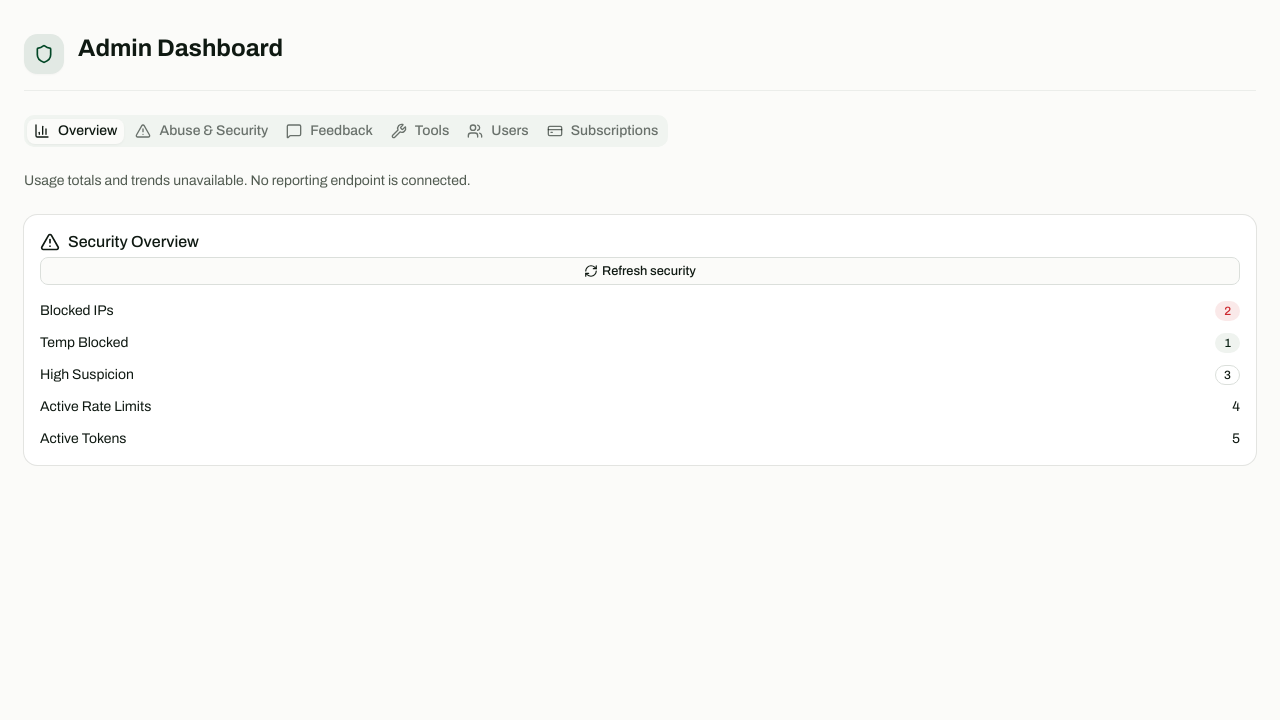
truthful admin dashboard › shows unavailable metric sections without fabricated numbers
Expected: the text "Active Tokens" is shown, [40, 429, 126, 449]
Expected: the text "Usage totals and trends unavailable" is shown, [24, 173, 471, 188]
Click the tab "Tools".
click(420, 131)  # box [384, 118, 456, 144]
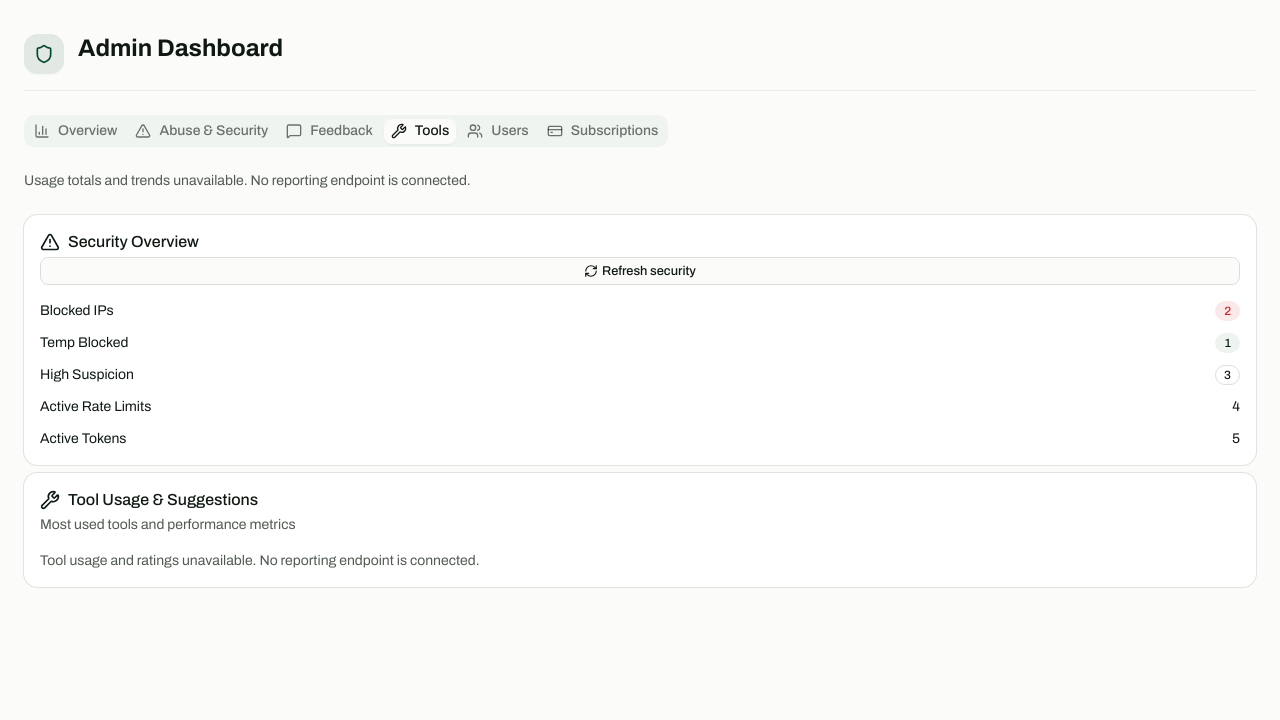
Expected: the text "Tool usage and ratings unavailable" is shown, [40, 553, 480, 568]
Click the tab "Users".
click(498, 131)  # box [460, 118, 536, 144]
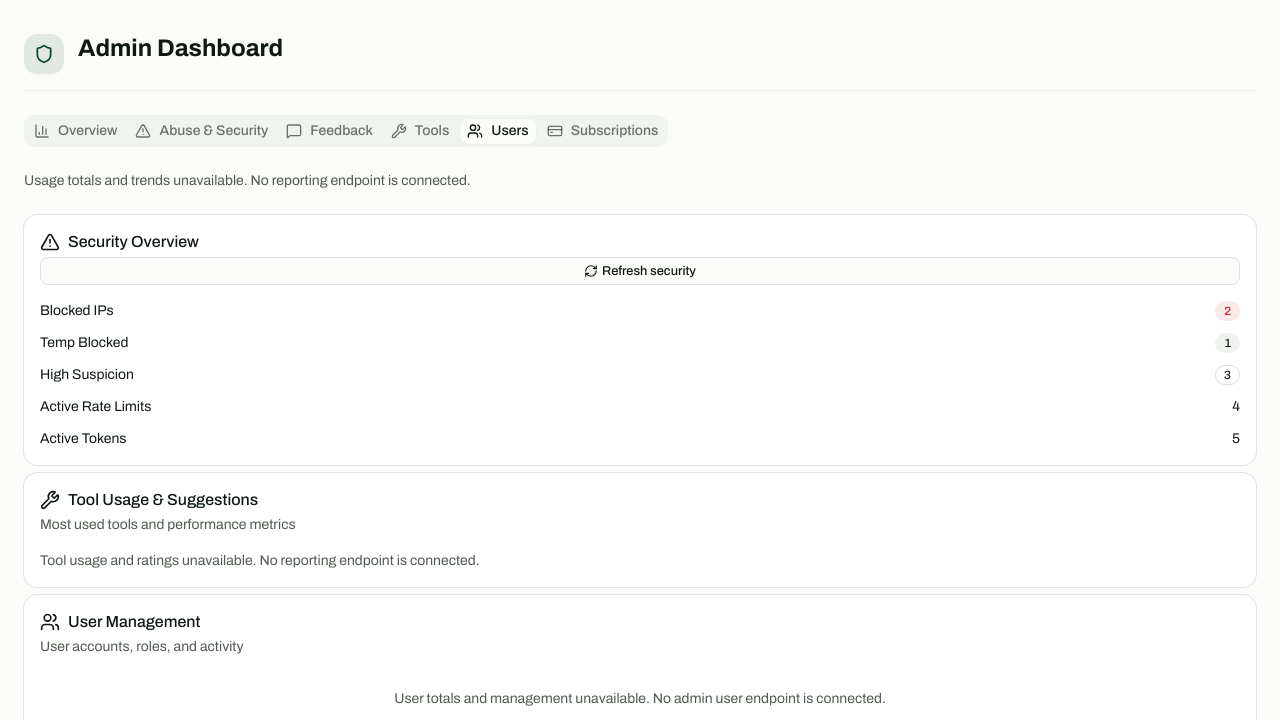
Expected: the text "User totals and management unavailable" is shown, [394, 691, 886, 706]
Click the tab "Subscriptions".
click(603, 131)  # box [540, 118, 665, 144]
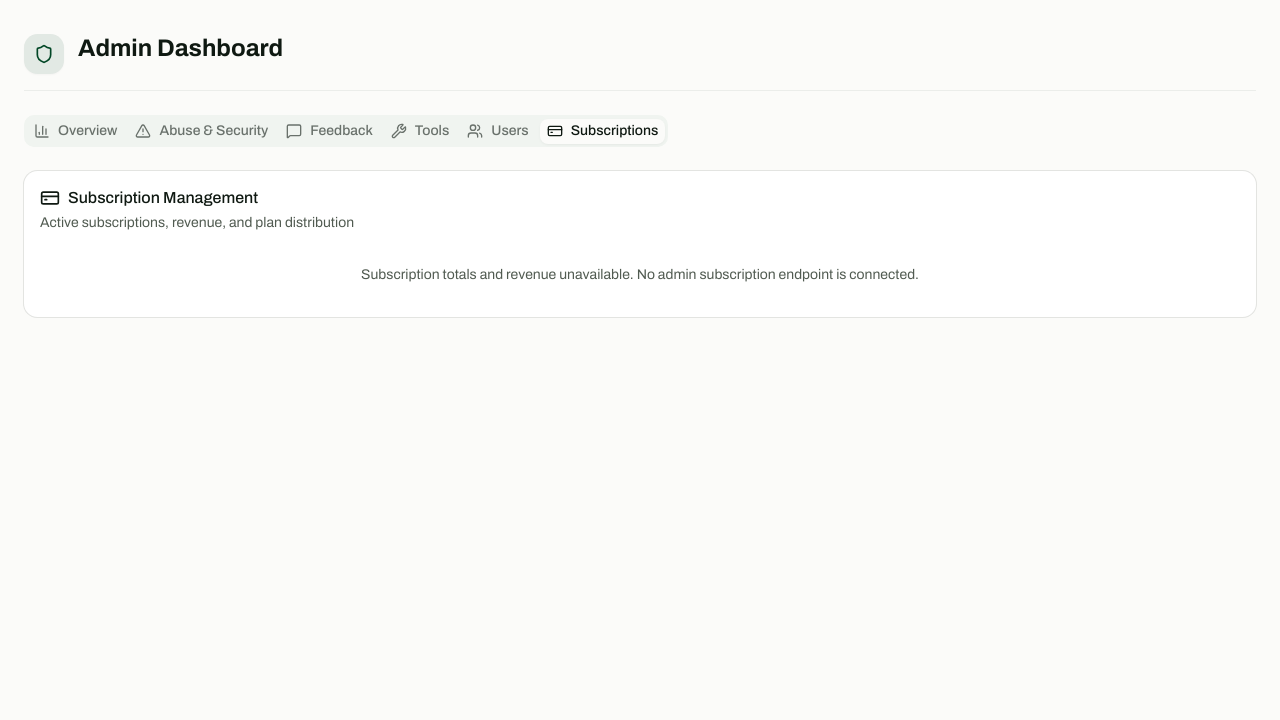
Expected: the text "Subscription totals and revenue unavailable" is shown, [361, 267, 919, 282]
